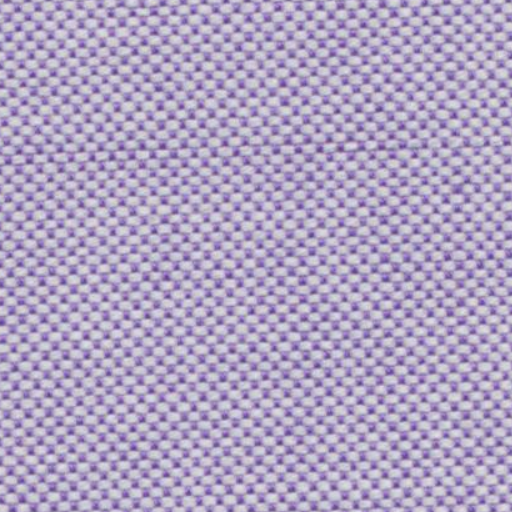TuoSha: (9, 126, 497, 179)
